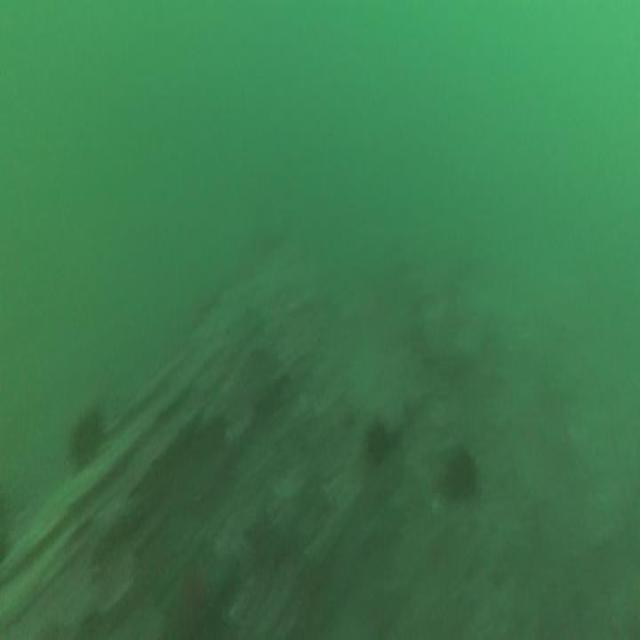echinus: (438, 441, 476, 501), (68, 409, 100, 465), (363, 412, 391, 460)
starfish: (150, 540, 235, 638)
